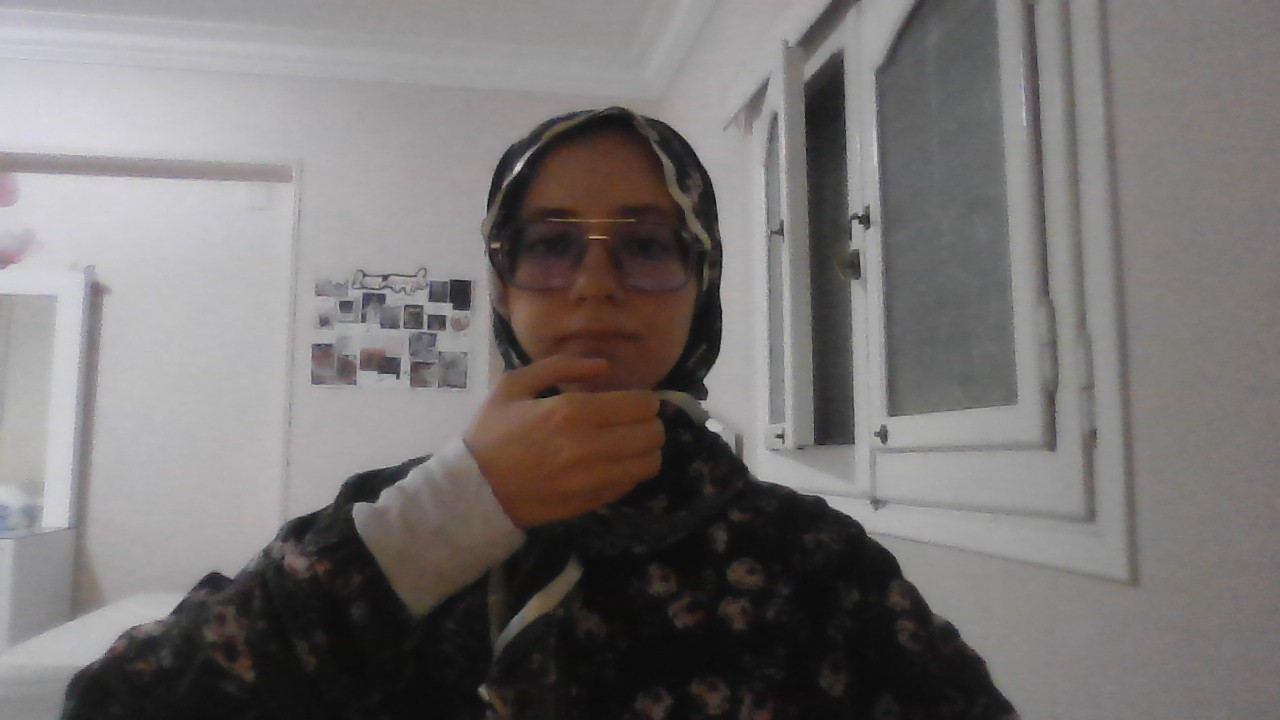drink: (475, 361, 664, 516)
